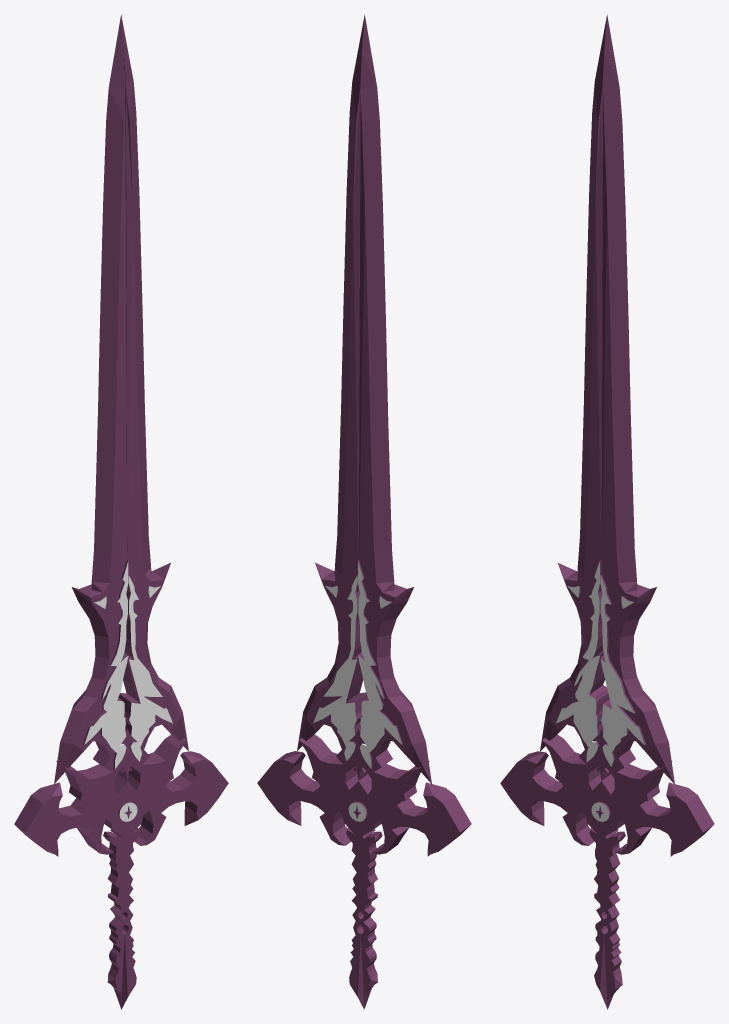
Rendered from synthetic0.0.2.obj.
The picture shows the model from 3 angles, left to right: view 1: azimuth 30°, elevation 25°; view 2: azimuth 150°, elevation 25°; view 3: azimuth 330°, elevation 25°; orthographic projection.
Parts seen in each view (by area): view 1: Plane_Plane.001; view 2: Plane_Plane.001; view 3: Plane_Plane.001.
Boxes of the visible parts, left/top/right/bottom form: Plane_Plane.001: left=14, top=14, right=228, bottom=1009; Plane_Plane.001: left=257, top=14, right=471, bottom=1009; Plane_Plane.001: left=500, top=14, right=714, bottom=1009.
Bounding box in the file's own units: 1 × 4.69 × 0.13.
